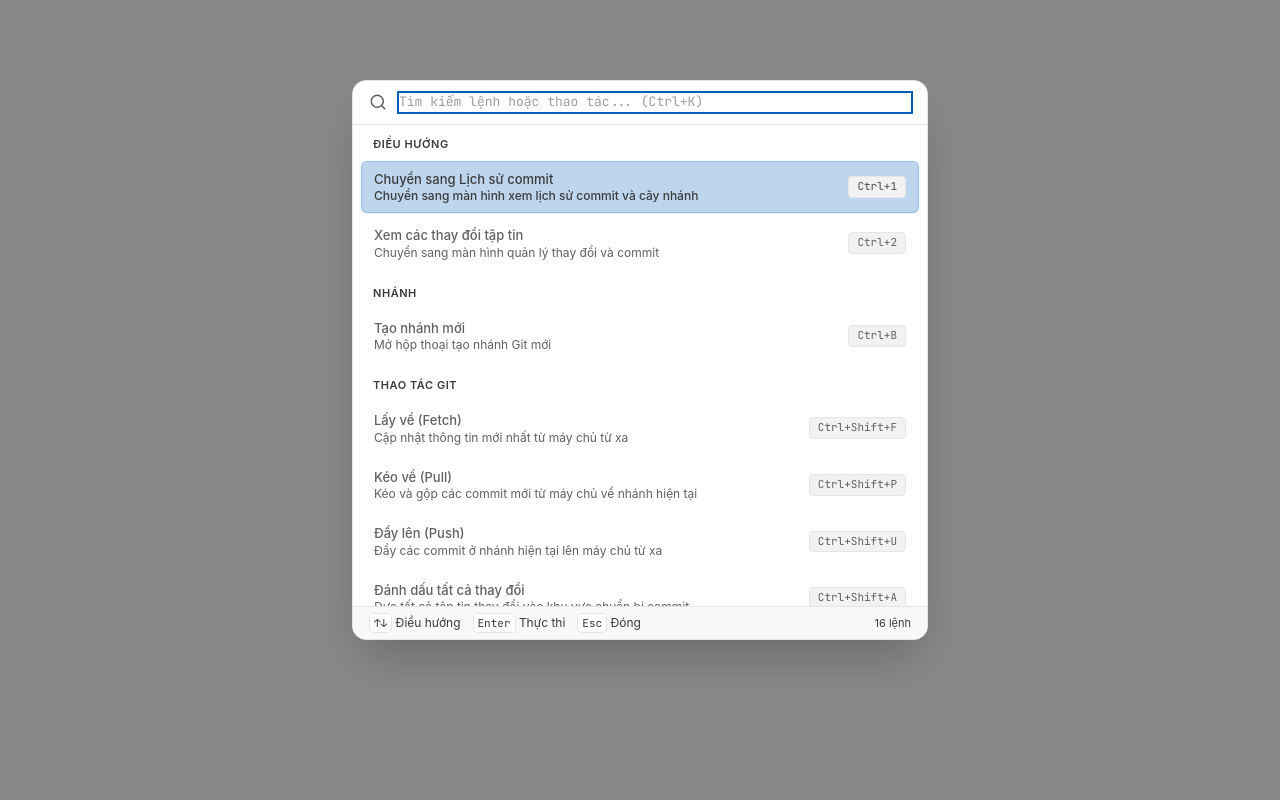
it: CommandPalette Component › filters commands based on search input
The width and height of the screenshot is (1280, 800).
Type "theme" into the field with placeholder "Tìm kiếm lệnh hoặc thao tác... (Ctrl+K)".
click(655, 102); type("theme")  # box x1=399 y1=93 x2=911 y2=112
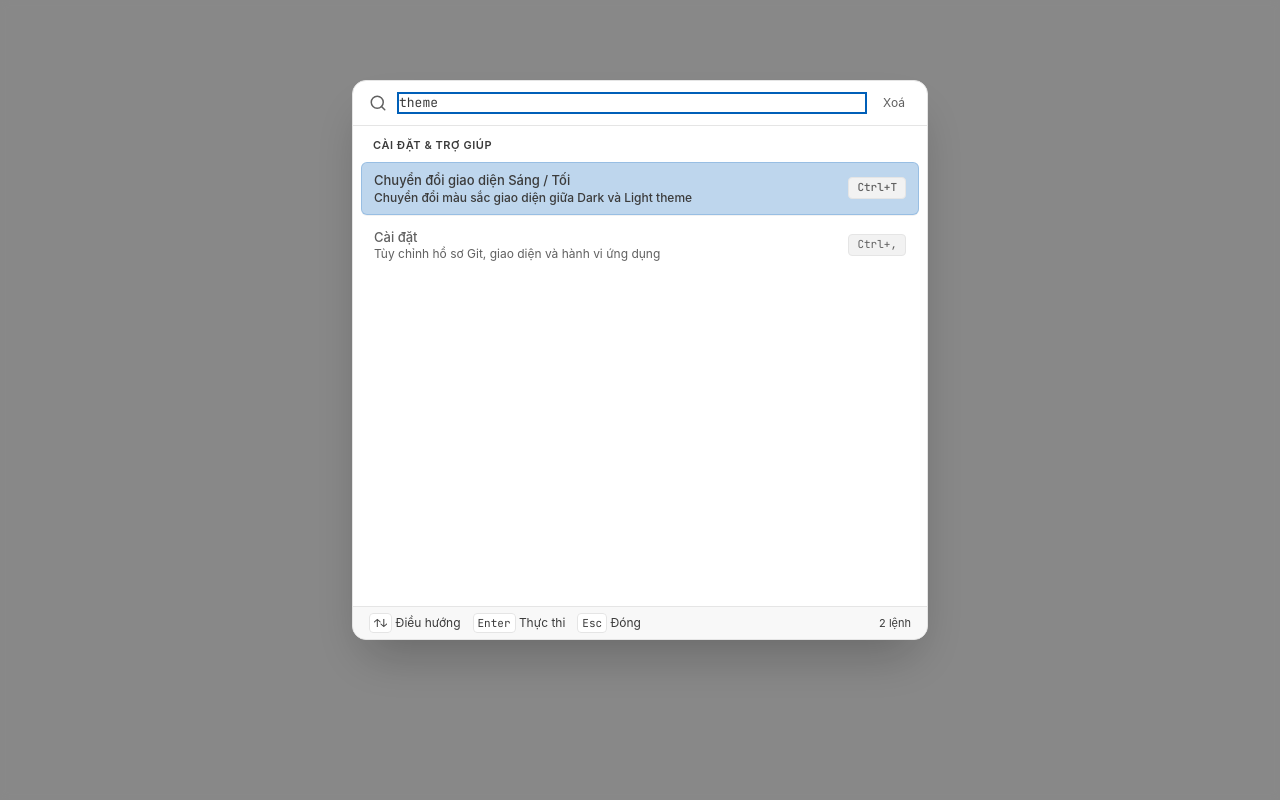
Expected: the text "Chuyển đổi giao diện Sáng / Tối" is shown, x1=374 y1=172 x2=570 y2=188
Expected: the button "Chuyển sang Lịch sử" is gone
